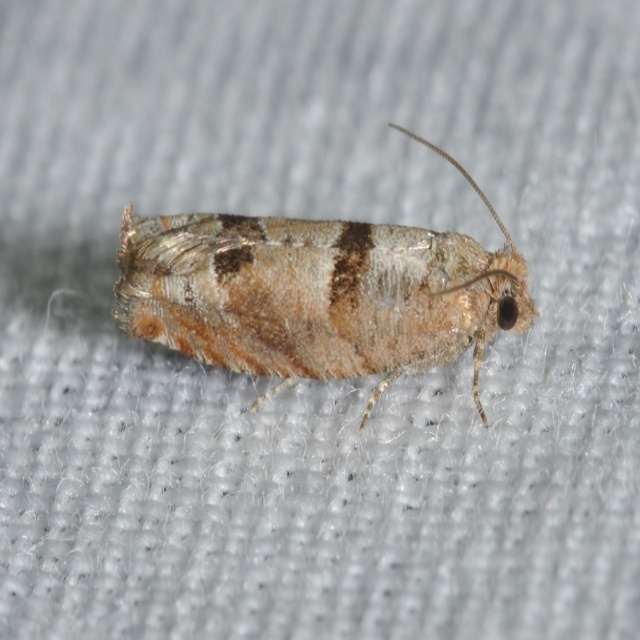Moths and butterflies: (114, 122, 542, 437)
